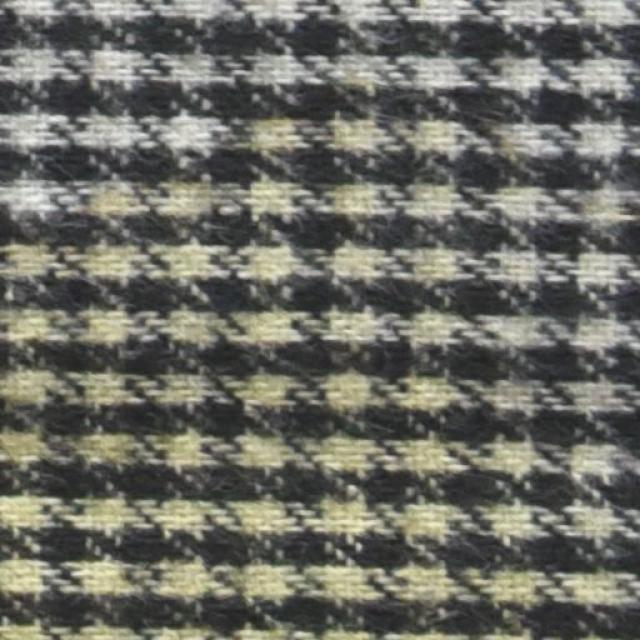Stain: (0, 61, 639, 639)
